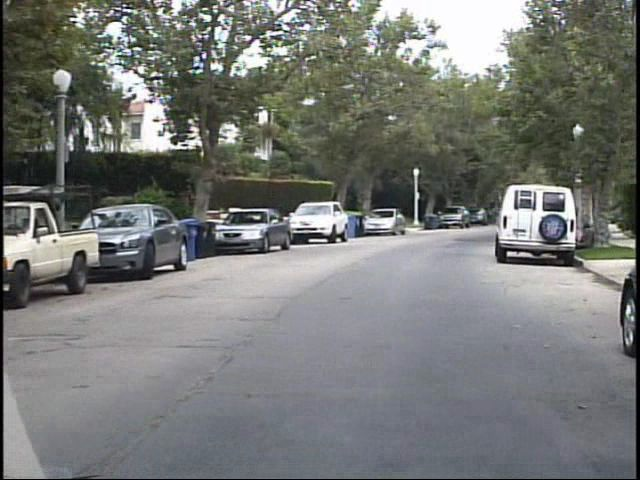person: (580, 221, 601, 254)
